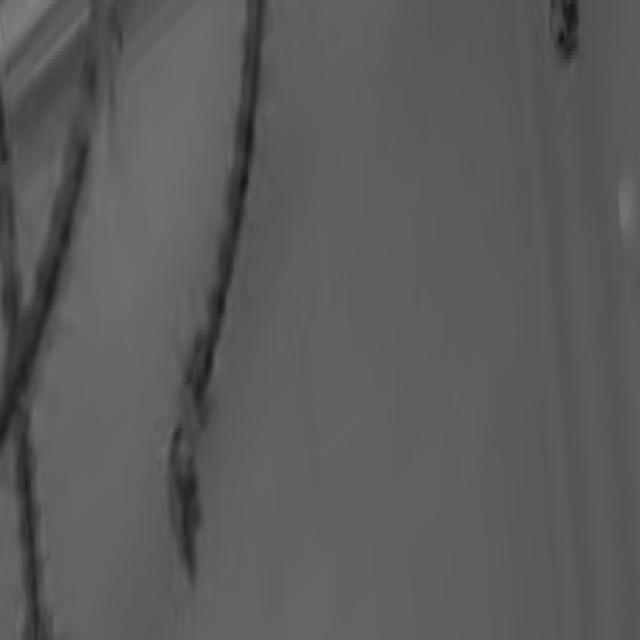larvas: (153, 0, 287, 586), (0, 0, 133, 476), (0, 85, 60, 640)
